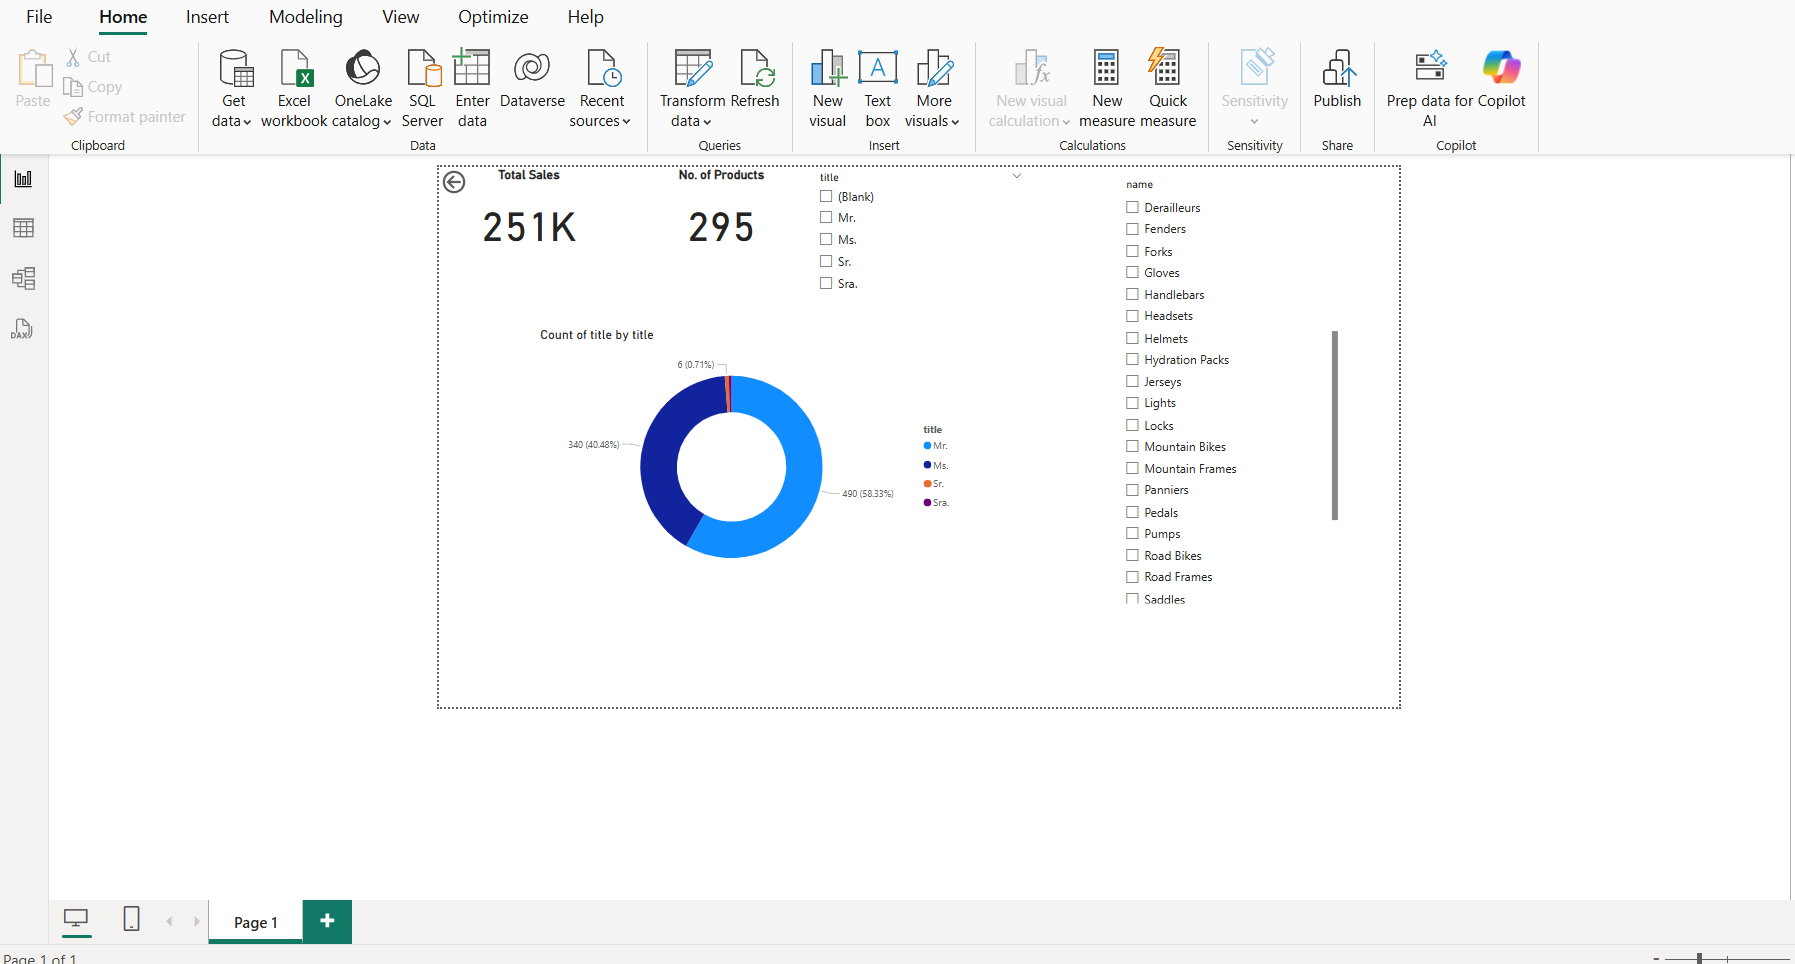

This screenshot's page, from the dashboard's own definition file:
{"tool":"powerbi","page":{"name":"Page 1","canvas":[1280,720],"ordinal":0},"visuals":[{"type":"card","title":"Total Sales","fields":{"Values":["Sum(Product.product_id)"]},"box":[0,0,240,125.6],"z":0},{"type":"actionButton","box":[0,0,100,40],"z":1000},{"type":"slicer","fields":{"Values":["Customer.title"]},"box":[494.4,0,294.4,177.8],"z":3001},{"type":"slicer","fields":{"Values":["ProductCategory.name"]},"box":[903.3,10,300,576.7],"z":3002},{"type":"card","title":"No. of Products","fields":{"Values":["CountNonNull(Product.product_id)"]},"box":[257.8,0,236.7,125.6],"z":3003},{"type":"donutChart","fields":{"Y":["CountNonNull(Customer.title)"],"Series":["Customer.title"]},"box":[130,213.3,565.6,354.4],"z":3004}]}

Visuals, with their boxes on the page's 1280x720 design canvas (x1, y1, x2, y2). These are canvas units, not pixel positions in the 1795x964 screenshot, which may show the page scaled, cropped or inside an application window:
"Total Sales" card: x1=0, y1=0, x2=240, y2=126
actionButton: x1=0, y1=0, x2=100, y2=40
slicer - Customer.title: x1=494, y1=0, x2=789, y2=178
slicer - ProductCategory.name: x1=903, y1=10, x2=1203, y2=587
"No. of Products" card: x1=258, y1=0, x2=494, y2=126
donutChart - CountNonNull(Customer.title) x Customer.title: x1=130, y1=213, x2=696, y2=568
